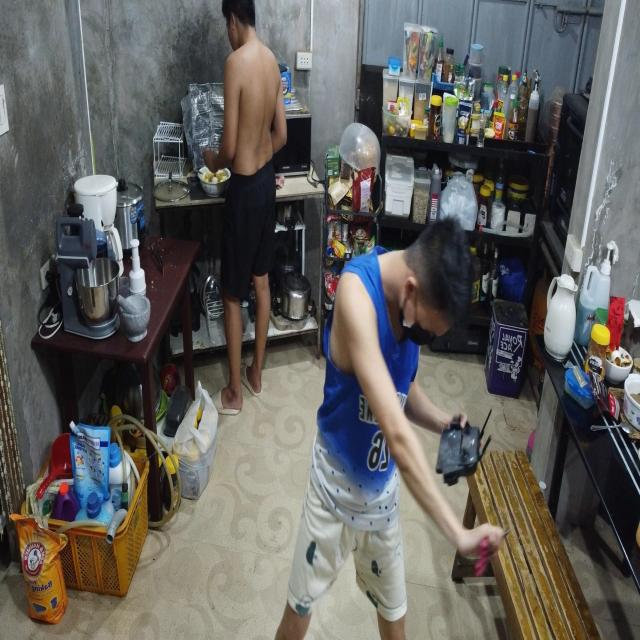scissor: (476, 526, 511, 578)
